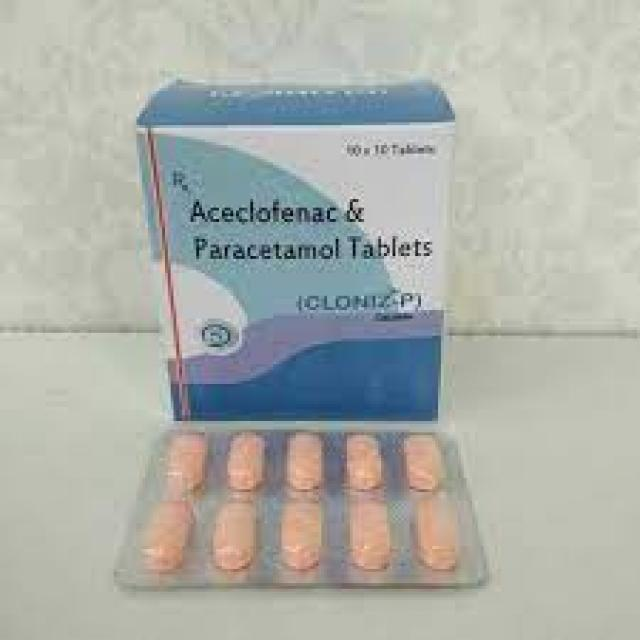authentic: (122, 66, 479, 435), (112, 418, 494, 604)
